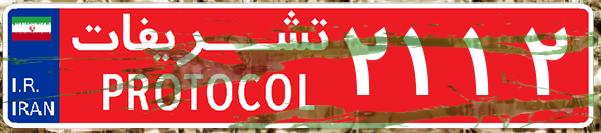1: (400, 20, 460, 115), (460, 20, 520, 115)
2: (340, 20, 400, 115), (520, 20, 580, 115)
تشریفات: (60, 8, 340, 125)
